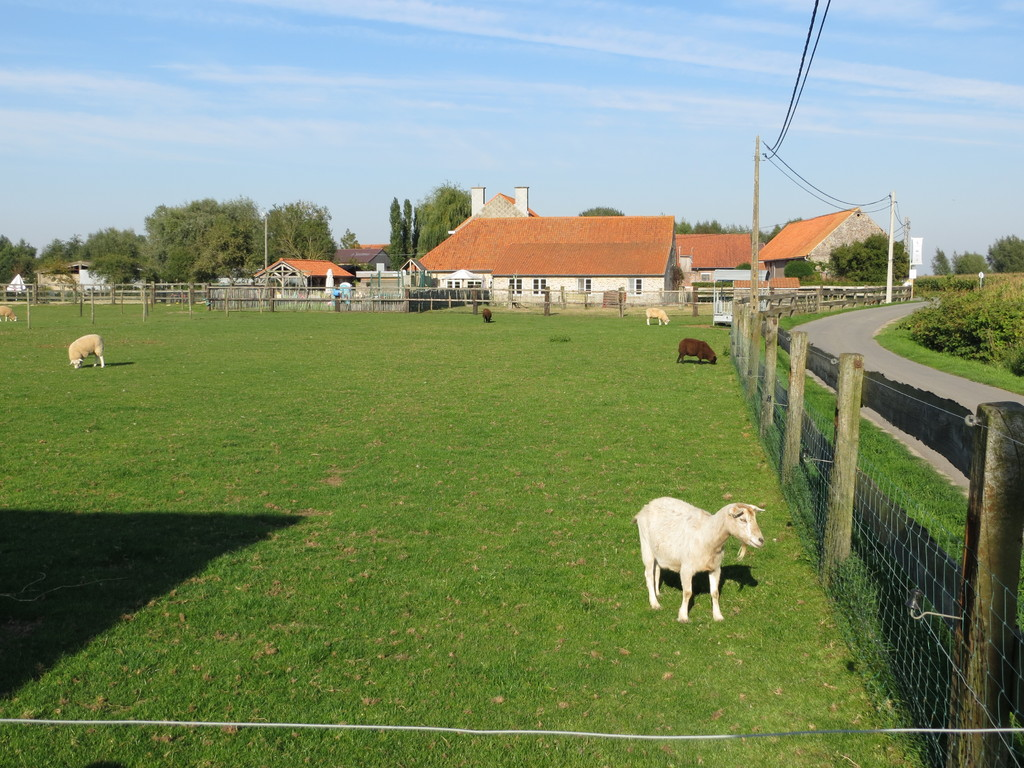sheep: (68, 335, 105, 369), (675, 339, 716, 367), (643, 305, 668, 325), (483, 309, 492, 324)
